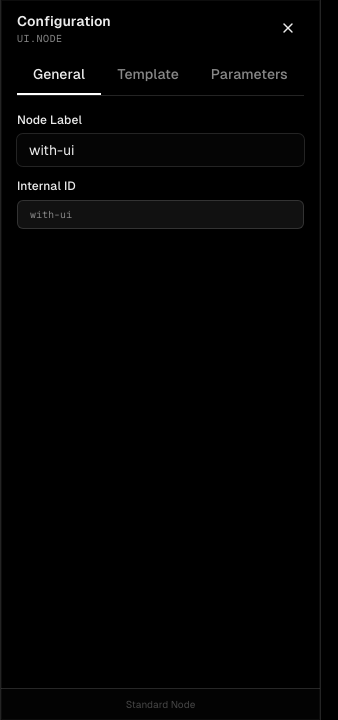
Test: NodeInspector tabs › keeps the selected tab while the same node stays selected
Click the tab "Parameters" at point(249, 76), box 195,56 -> 304,95
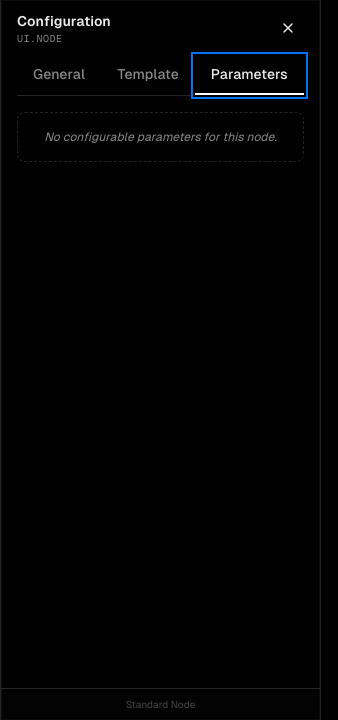
Expected: the text "No configurable parameters for this node." is shown, 34,129 -> 287,145
